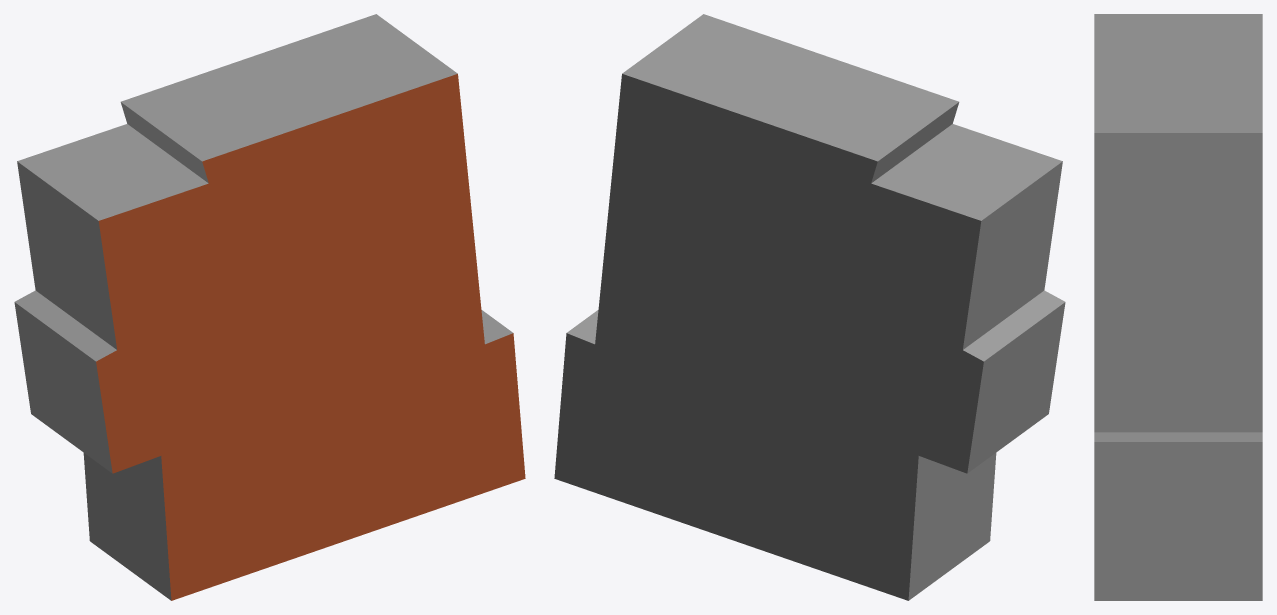
The model's file is construction_1621_assumed_A_Casa_h6m.obj.
3 renders of one model, left to right at view 1: azimuth 30°, elevation 25°; view 2: azimuth 150°, elevation 25°; view 3: azimuth 270°, elevation 25°, orthographic. The views are drawn at different scales.
Parts seen in each view (by area): view 1: construction_1621_assumed_A_Casa; view 2: construction_1621_assumed_A_Casa; view 3: construction_1621_assumed_A_Casa.
Part boxes in pixels (x1,y1,x2,y2): construction_1621_assumed_A_Casa: (14, 14, 525, 600); construction_1621_assumed_A_Casa: (554, 14, 1065, 600); construction_1621_assumed_A_Casa: (1094, 14, 1262, 600).
Bounding box in the file's own units: 18.23 × 18.55 × 6.
